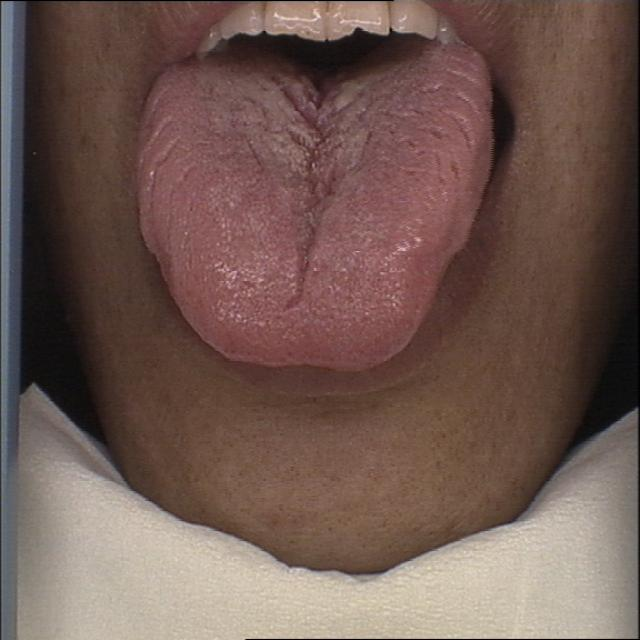tongue: (128, 45, 502, 376)
